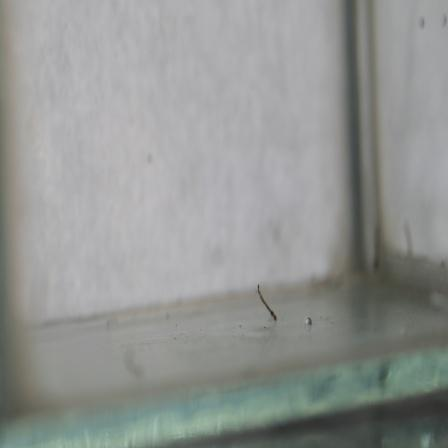Jentik-Nyamuk: (254, 279, 280, 324)
